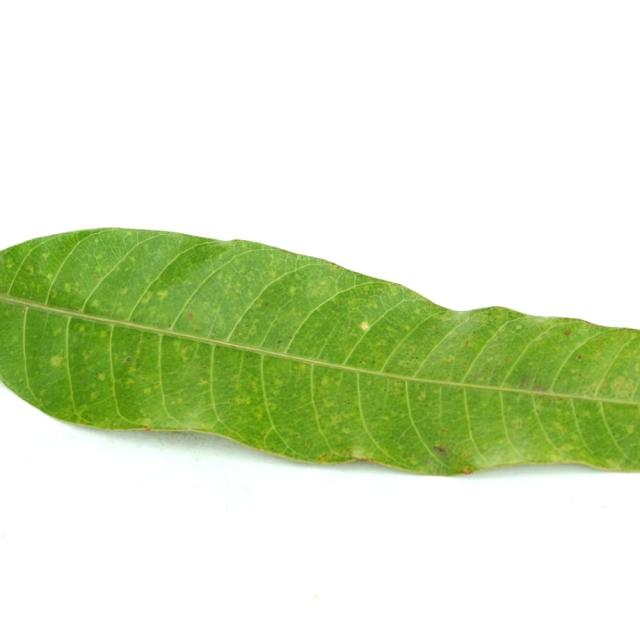Mango: (0, 228, 639, 474)
Powdery_Mildew: (149, 283, 177, 302), (44, 353, 66, 373), (354, 319, 375, 334), (348, 446, 369, 460), (611, 377, 629, 391), (124, 362, 139, 378), (245, 321, 259, 334), (433, 445, 449, 456), (531, 385, 548, 395), (140, 292, 153, 304), (179, 346, 191, 359), (236, 396, 251, 406), (190, 321, 203, 332), (5, 257, 15, 270), (324, 400, 336, 410), (479, 318, 491, 328), (561, 443, 575, 451), (287, 285, 297, 296), (417, 390, 427, 401), (606, 457, 618, 466), (553, 422, 565, 431), (593, 337, 606, 345), (513, 418, 523, 428), (460, 467, 473, 474), (626, 424, 635, 434), (52, 327, 62, 336), (249, 382, 258, 392), (273, 379, 282, 389), (198, 378, 209, 386), (341, 448, 352, 456), (119, 286, 128, 295), (25, 265, 34, 274), (409, 455, 418, 464), (97, 373, 106, 381), (91, 300, 100, 308), (63, 283, 71, 292), (332, 415, 341, 423), (342, 427, 351, 435), (321, 377, 330, 385), (262, 430, 270, 439), (331, 263, 341, 270), (445, 356, 455, 363), (41, 252, 49, 260), (90, 392, 98, 400), (99, 331, 107, 339), (143, 388, 152, 395), (142, 425, 152, 431), (440, 428, 450, 434), (78, 326, 86, 333), (269, 271, 276, 279), (268, 403, 276, 410), (546, 398, 554, 405), (261, 301, 270, 307), (564, 329, 571, 336), (46, 273, 53, 280), (129, 256, 136, 263), (126, 379, 134, 385), (125, 231, 133, 237), (96, 255, 103, 261), (404, 325, 411, 331), (187, 313, 193, 319), (516, 324, 523, 329), (360, 361, 367, 366), (576, 355, 582, 360)
